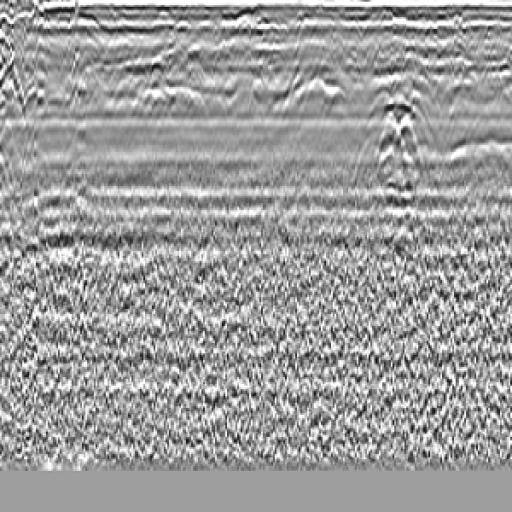metalic: (205, 5, 290, 49)
